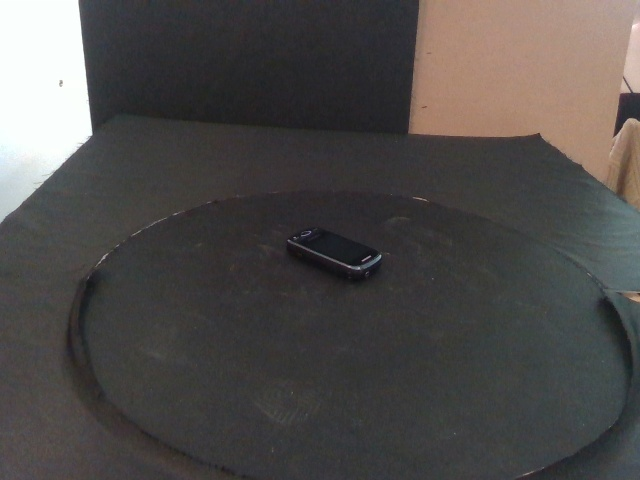phone: (286, 226, 384, 282)
